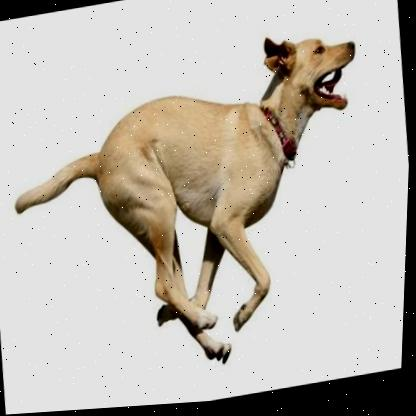dog: (0, 7, 408, 404)
